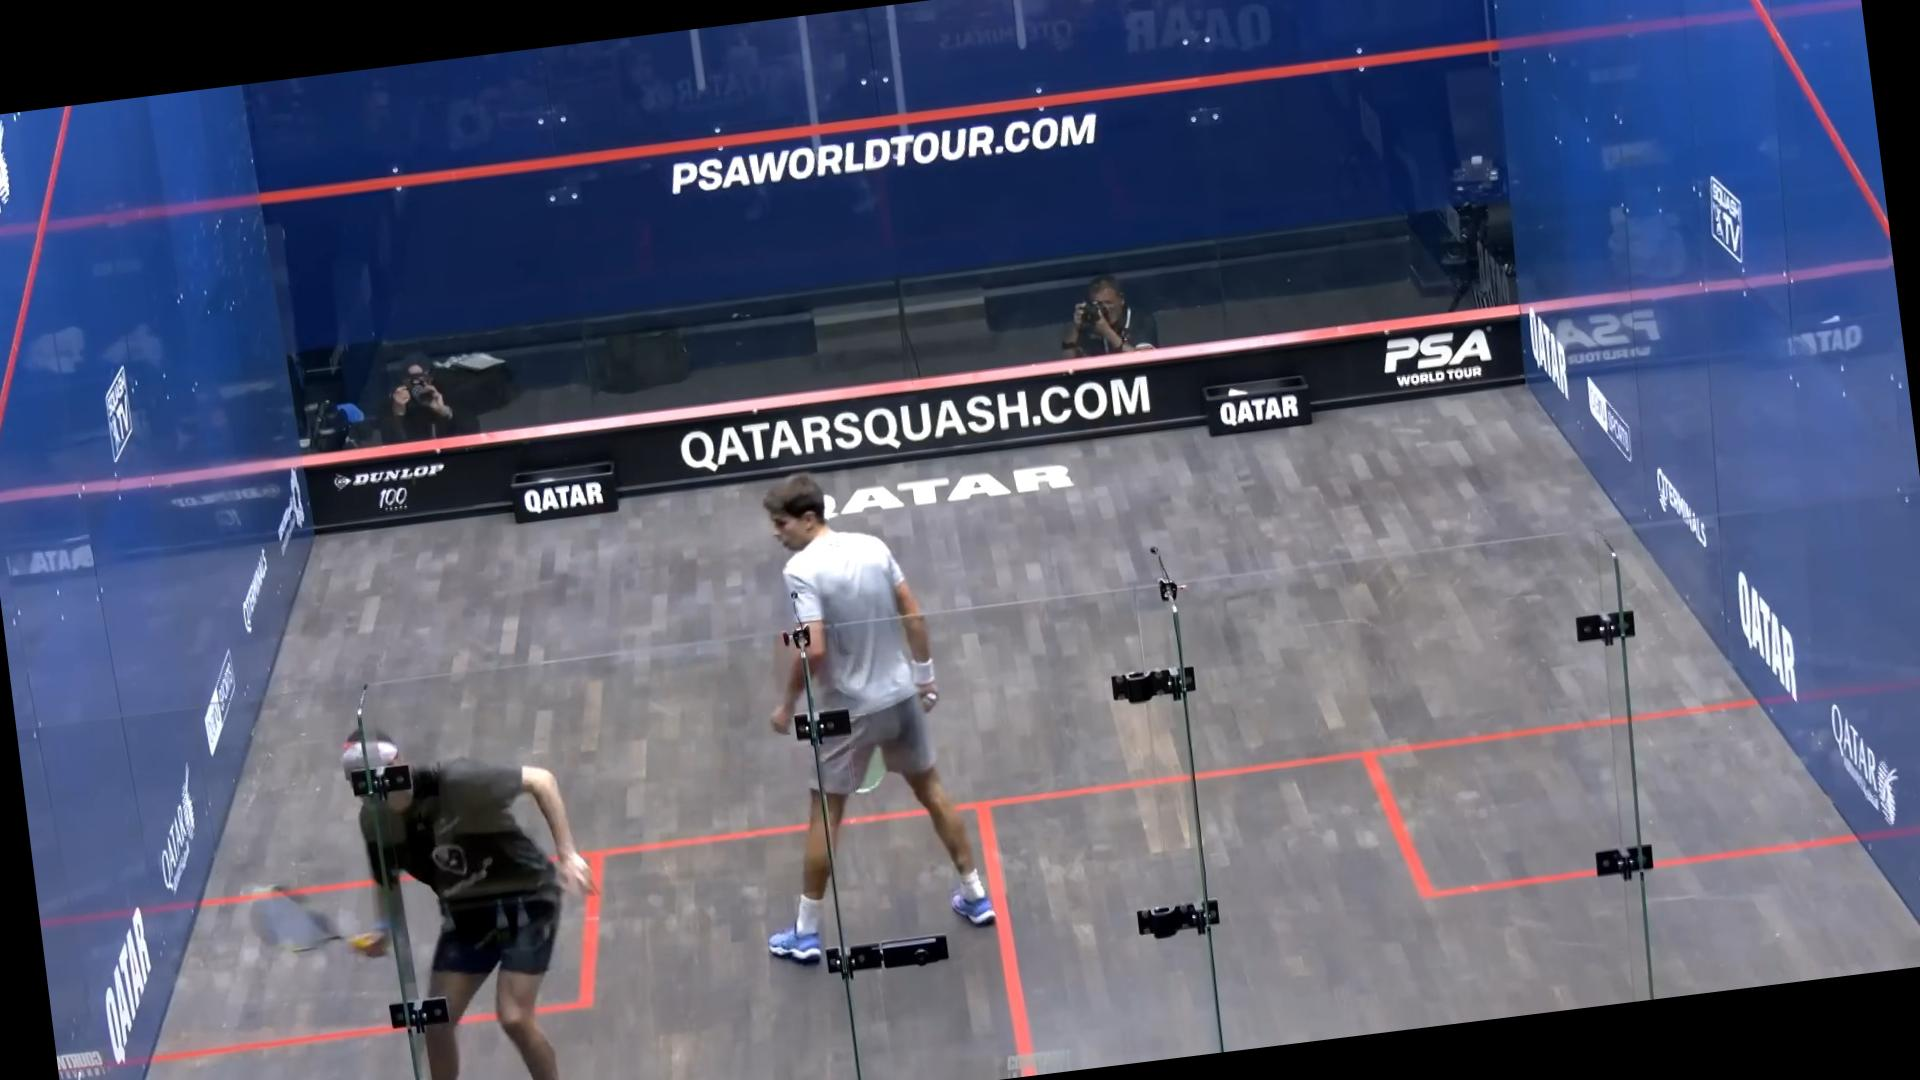Racket: (241, 868, 357, 973)
